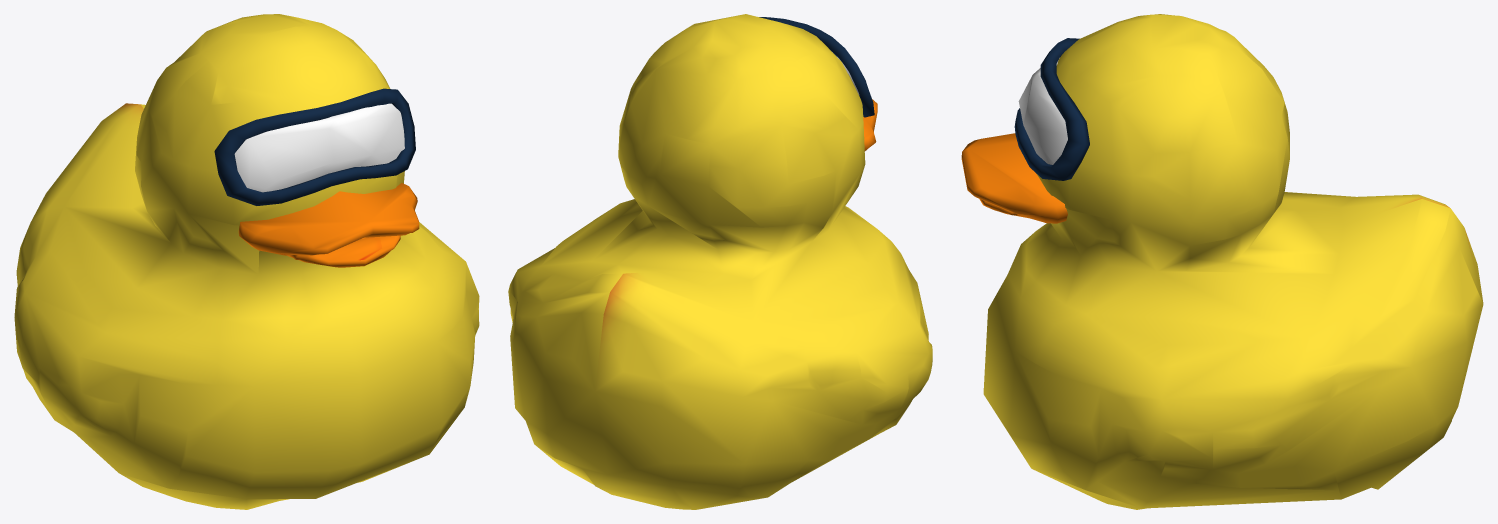
The model's file is duck.glb.
3 views of the same model, side by side, from view 1: azimuth 30°, elevation 25°; view 2: azimuth 150°, elevation 25°; view 3: azimuth 270°, elevation 25° (orthographic). The views are drawn at different scales.
Visible parts, largest first — view 1: Duckred.001, Bill.001, Visor glass.001, Visor rim.001; view 2: Duckred.001, Visor rim.001; view 3: Duckred.001, Bill.001, Visor rim.001, Visor glass.001.
Part boxes in pixels (x1,y1,x2,y2): Duckred.001: (14,14,479,509); Bill.001: (238,183,419,267); Visor glass.001: (234,103,404,192); Visor rim.001: (214,88,415,205); Duckred.001: (508,14,932,509); Visor rim.001: (759,17,874,117); Duckred.001: (983,14,1483,509); Bill.001: (961,133,1067,223); Visor rim.001: (1014,38,1089,180); Visor glass.001: (1018,58,1067,164).
Size of the model in its own units: 0.3367 by 0.3564 by 0.3707.
2 materials, 1 textured.
